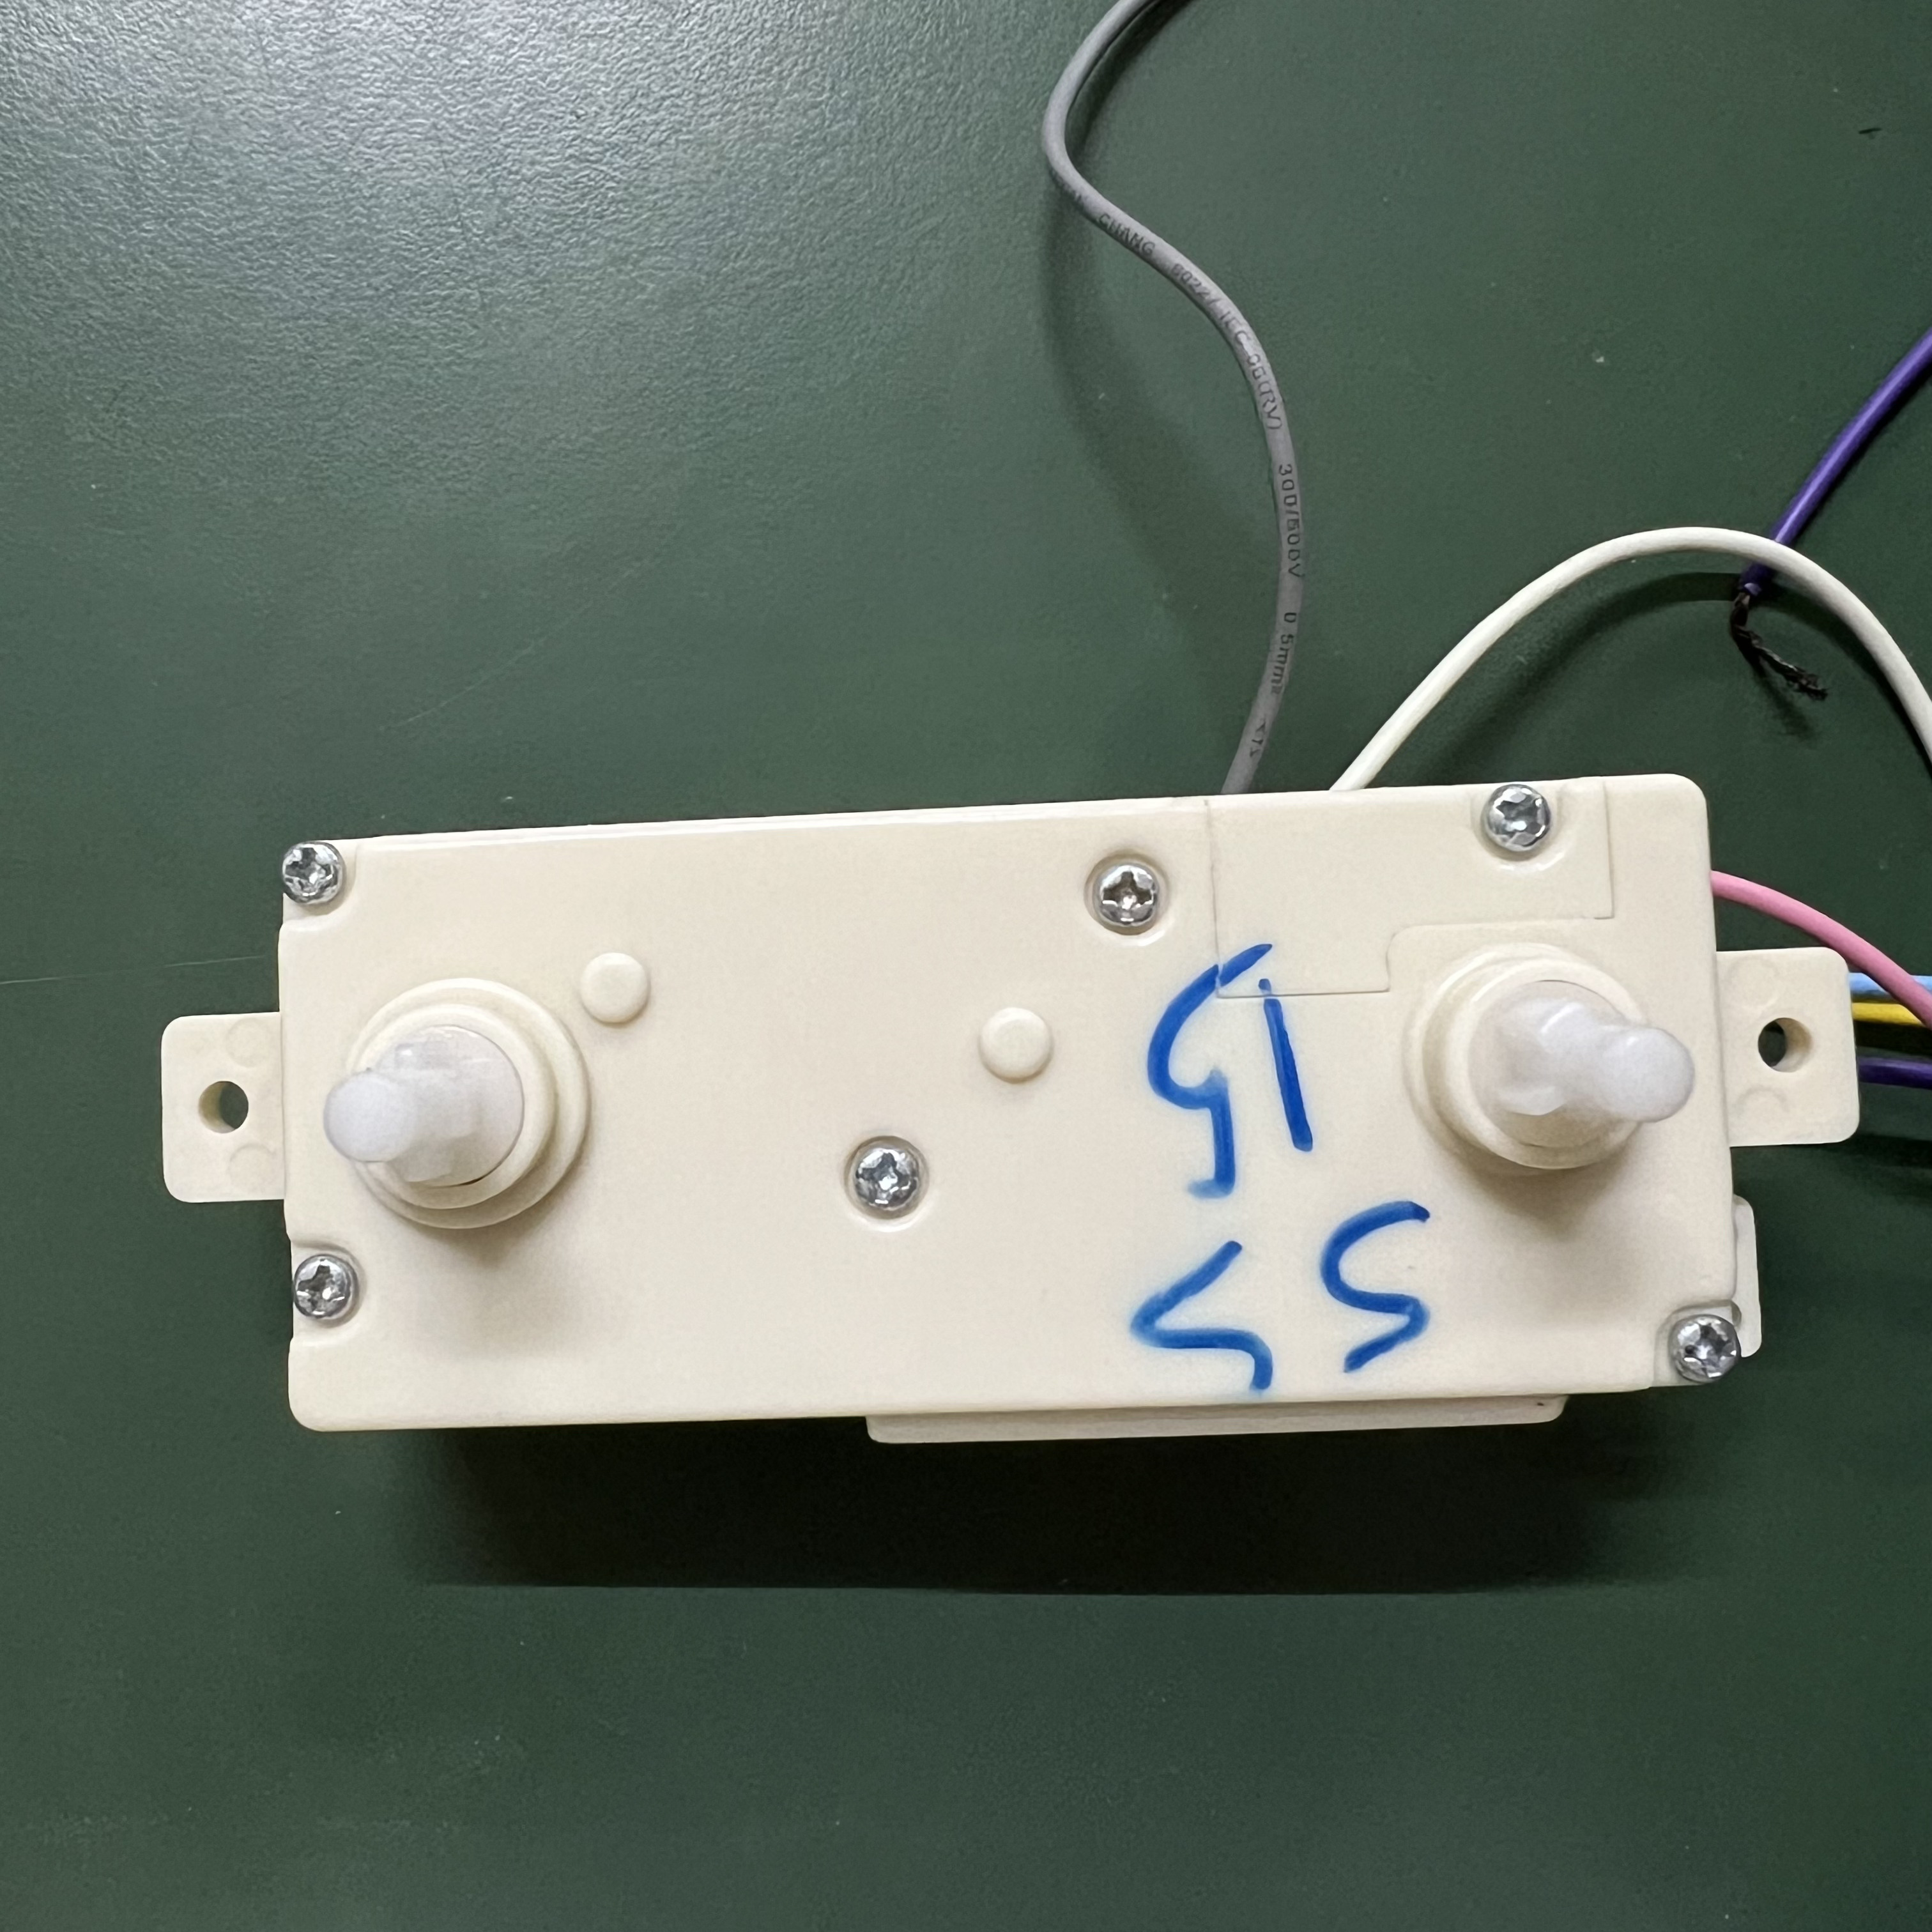rectangle_timer: (257, 793, 1838, 1476)
